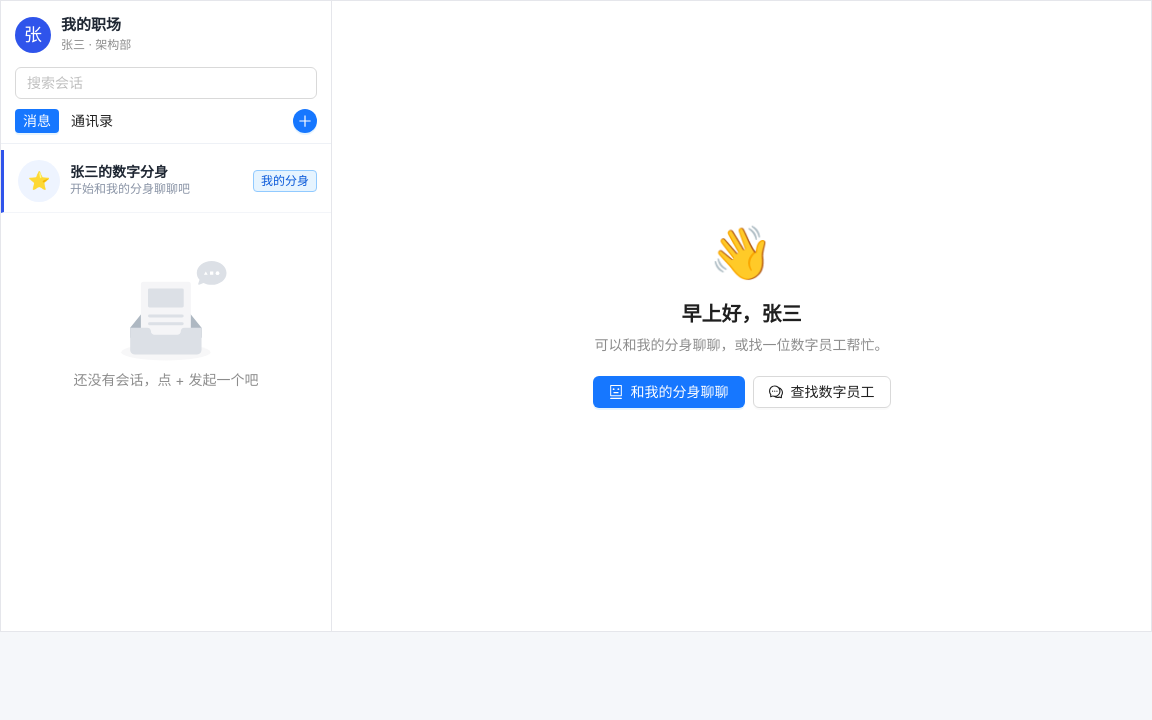
Scenario: WorkplacePage › 通讯录分组与搜索，点击数字员工头像发起会话且不跳转白屏
Click the button "通讯录" at (92, 121), box [63,109,121,133]
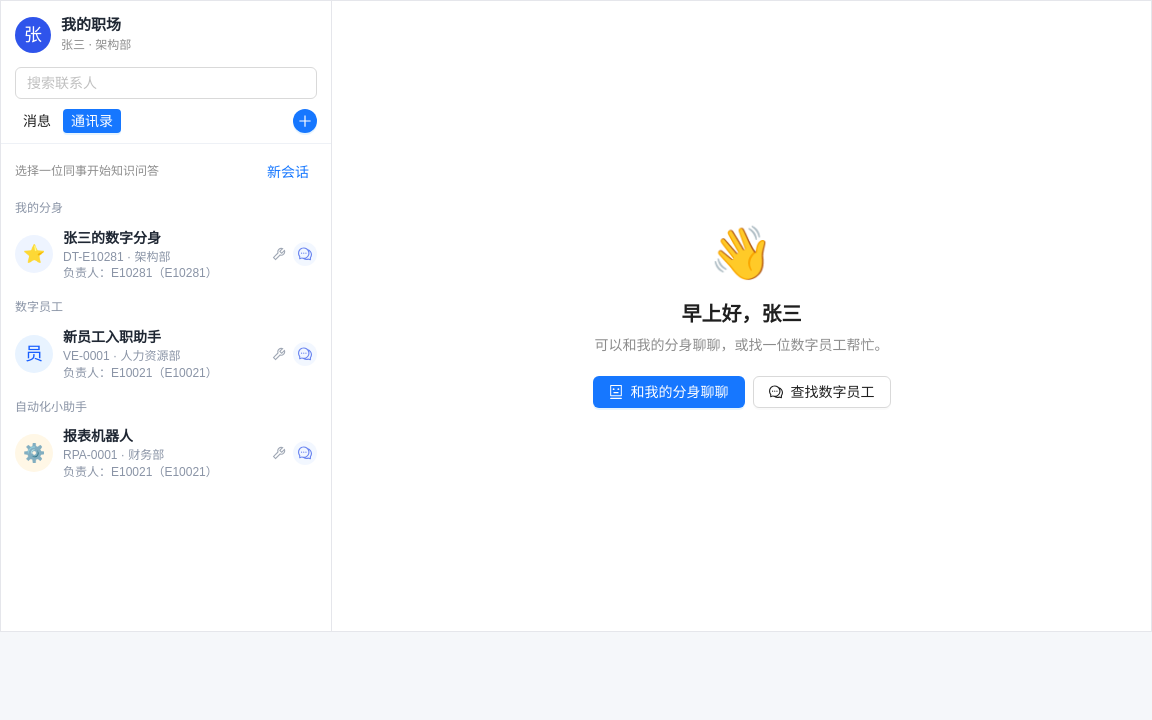
Expected: the text "我的分身" is shown, [15,201,63,215]
Expected: the text "数字员工" is shown, [15,300,63,314]
Expected: the text "自动化小助手" is shown, [15,400,87,414]
Type "报表" into the field with placeholder "搜索联系人" at (158, 83), box [27,72,289,94]
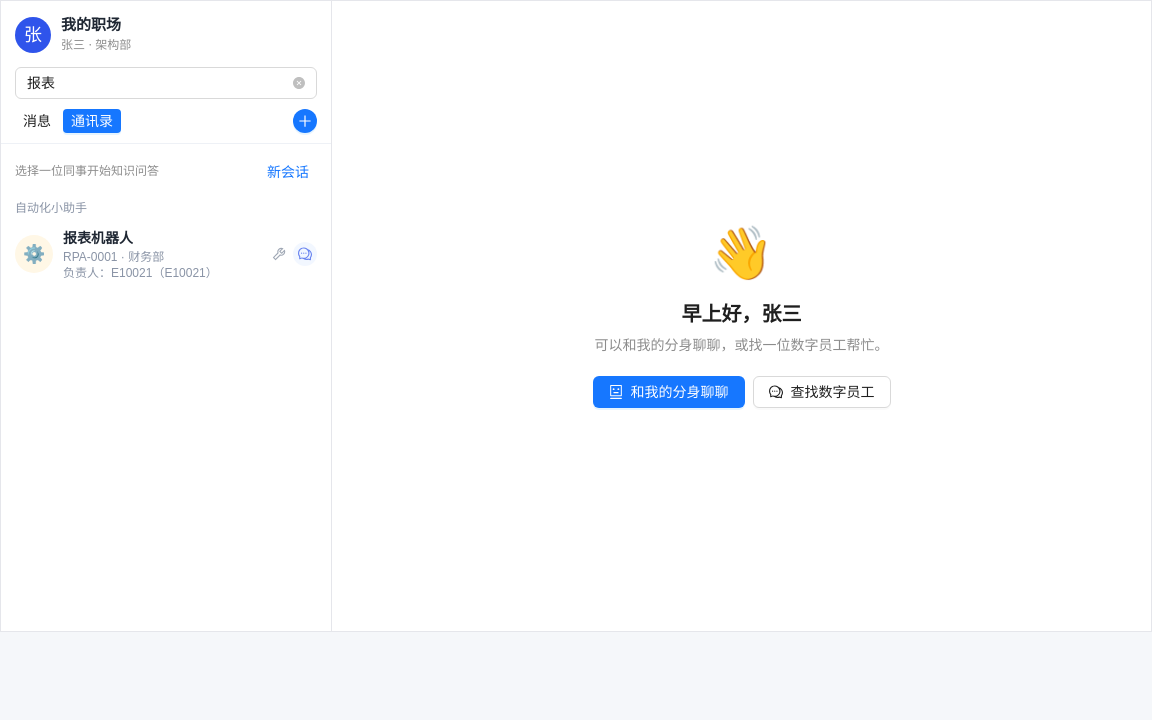
Expected: the button "报表机器人" is shown, [63,228,133,248]
Expected: the button "新员工入职助手" is gone
Replace the text in the field with placeholder "搜索联系人" with "入职" at (158, 83), box [27,72,289,94]
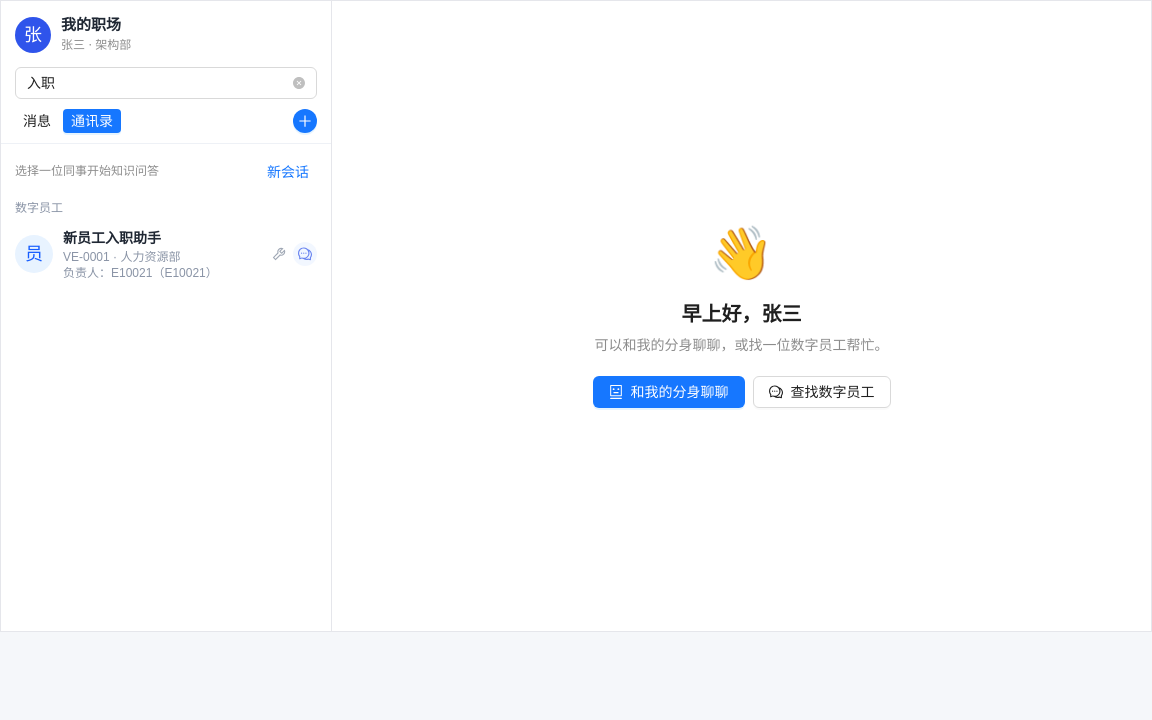
Click the button named "与新员工入职助手聊天" at (34, 254), box [15,235,53,273]
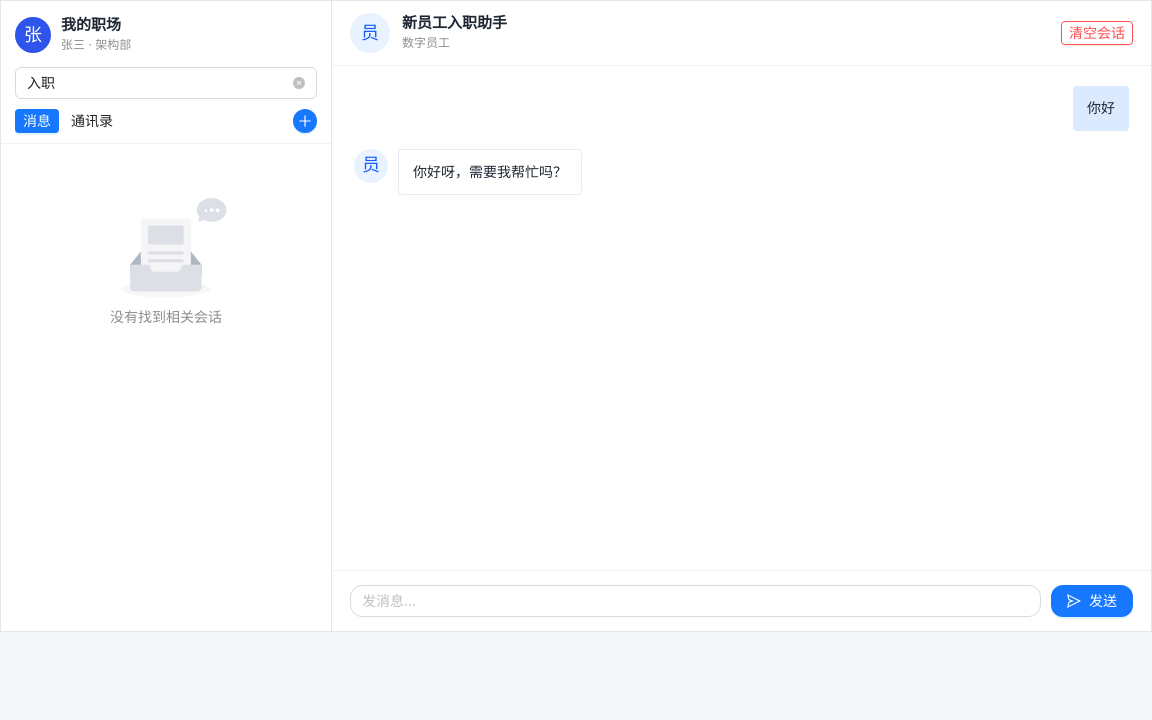
Expected: the text "你好呀，需要我帮忙吗？" is shown, [413,160,567,184]
